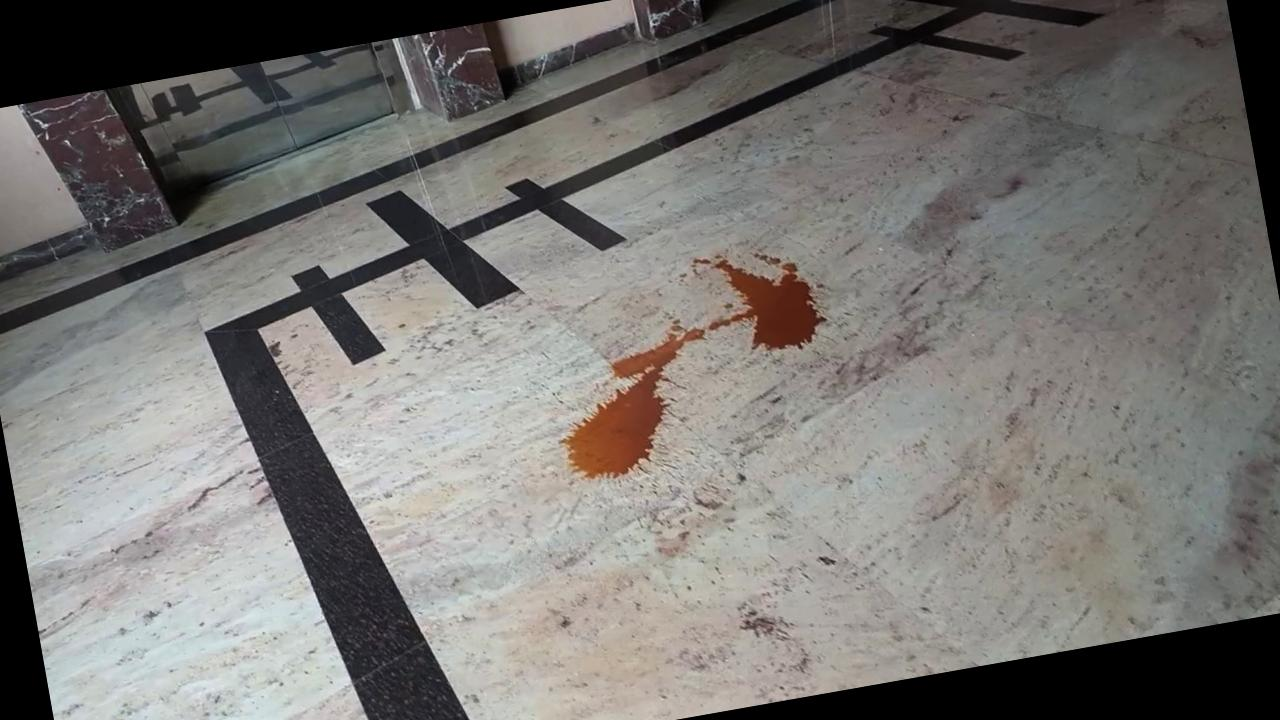dirty_floor: (532, 228, 842, 487)
